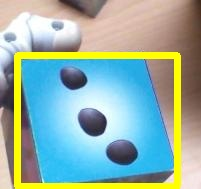Blue3: (17, 55, 177, 186)
